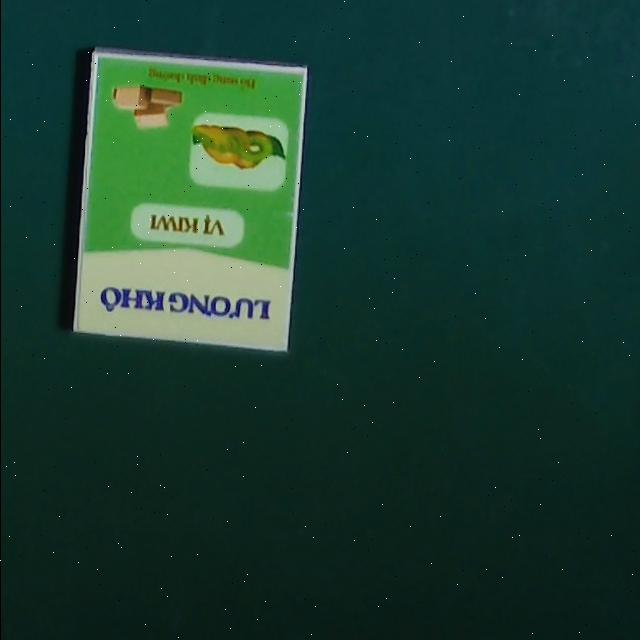kiwi: (72, 47, 307, 350)
